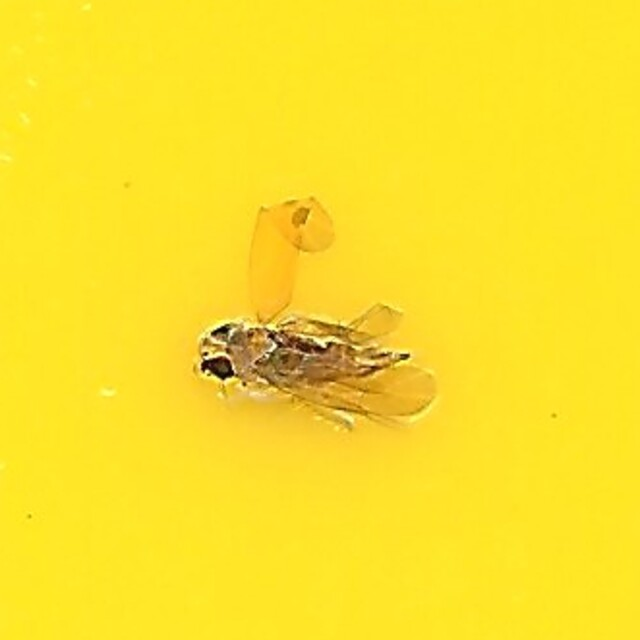Hemiptera: (193, 200, 447, 440)
